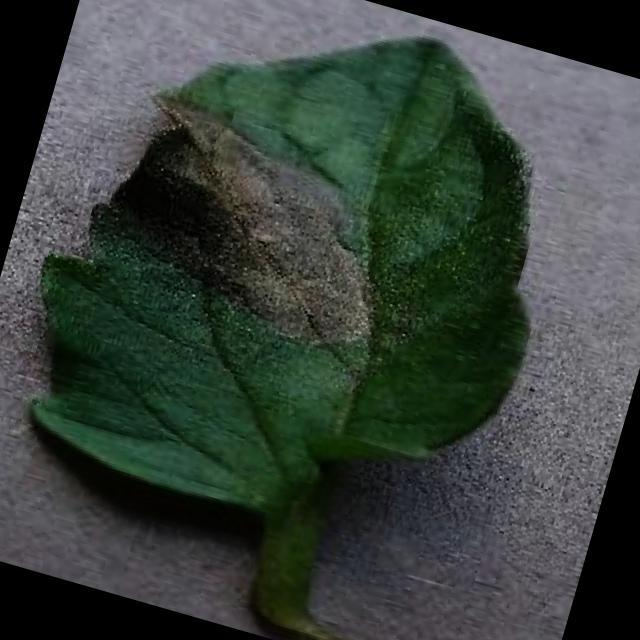Tomato late blight leaf: (0, 0, 604, 578)
